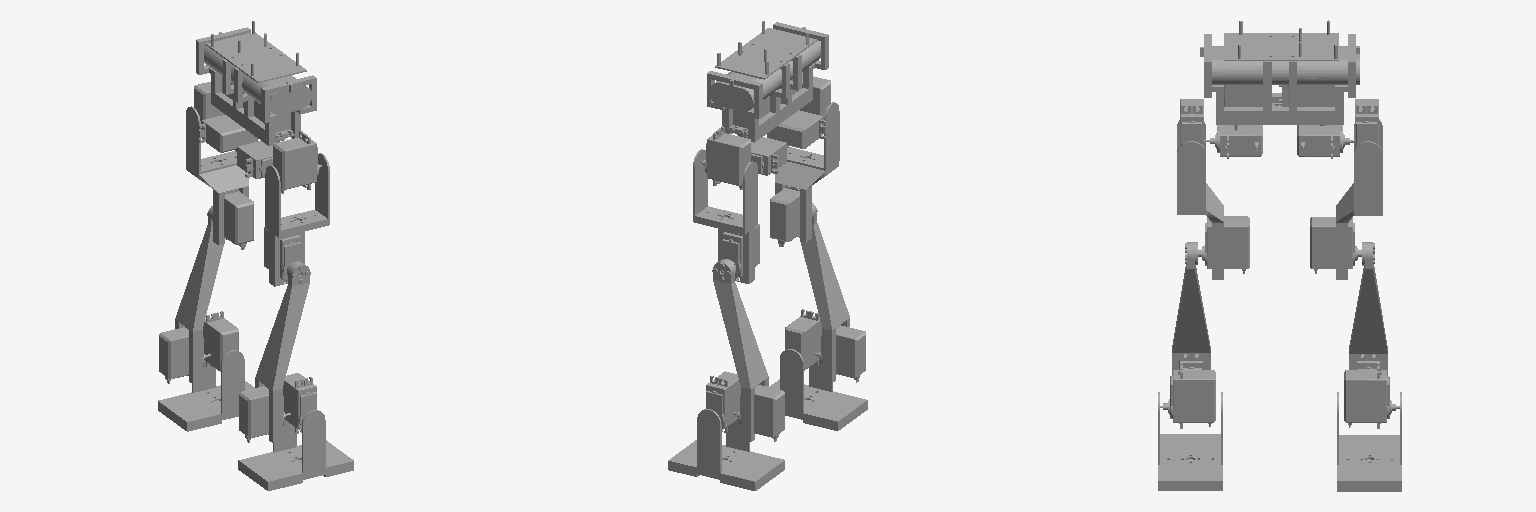
URDF robot description (URDF):
<?xml version="1.0" ?>
<!-- =================================================================================== -->
<!-- |    This document was autogenerated by xacro from urdf/URDF.xacro                | -->
<!-- |    EDITING THIS FILE BY HAND IS NOT RECOMMENDED                                 | -->
<!-- =================================================================================== -->
<robot xmlns:xacro="http://www.ros.org/wiki/xacro" name="URDF">
  <material name="silver">
    <color rgba="0.700 0.700 0.700 1.000"/>
  </material>
  <transmission name="Revolute 46_tran">
    <type>transmission_interface/SimpleTransmission</type>
    <joint name="Revolute 46">
      <hardwareInterface>hardware_interface/EffortJointInterface</hardwareInterface>
    </joint>
    <actuator name="Revolute 46_actr">
      <hardwareInterface>hardware_interface/EffortJointInterface</hardwareInterface>
      <mechanicalReduction>1</mechanicalReduction>
    </actuator>
  </transmission>
  <transmission name="Revolute 54_tran">
    <type>transmission_interface/SimpleTransmission</type>
    <joint name="Revolute 54">
      <hardwareInterface>hardware_interface/EffortJointInterface</hardwareInterface>
    </joint>
    <actuator name="Revolute 54_actr">
      <hardwareInterface>hardware_interface/EffortJointInterface</hardwareInterface>
      <mechanicalReduction>1</mechanicalReduction>
    </actuator>
  </transmission>
  <transmission name="Revolute 64_tran">
    <type>transmission_interface/SimpleTransmission</type>
    <joint name="Revolute 64">
      <hardwareInterface>hardware_interface/EffortJointInterface</hardwareInterface>
    </joint>
    <actuator name="Revolute 64_actr">
      <hardwareInterface>hardware_interface/EffortJointInterface</hardwareInterface>
      <mechanicalReduction>1</mechanicalReduction>
    </actuator>
  </transmission>
  <transmission name="Revolute 65_tran">
    <type>transmission_interface/SimpleTransmission</type>
    <joint name="Revolute 65">
      <hardwareInterface>hardware_interface/EffortJointInterface</hardwareInterface>
    </joint>
    <actuator name="Revolute 65_actr">
      <hardwareInterface>hardware_interface/EffortJointInterface</hardwareInterface>
      <mechanicalReduction>1</mechanicalReduction>
    </actuator>
  </transmission>
  <transmission name="Revolute 66_tran">
    <type>transmission_interface/SimpleTransmission</type>
    <joint name="Revolute 66">
      <hardwareInterface>hardware_interface/EffortJointInterface</hardwareInterface>
    </joint>
    <actuator name="Revolute 66_actr">
      <hardwareInterface>hardware_interface/EffortJointInterface</hardwareInterface>
      <mechanicalReduction>1</mechanicalReduction>
    </actuator>
  </transmission>
  <transmission name="Revolute 67_tran">
    <type>transmission_interface/SimpleTransmission</type>
    <joint name="Revolute 67">
      <hardwareInterface>hardware_interface/EffortJointInterface</hardwareInterface>
    </joint>
    <actuator name="Revolute 67_actr">
      <hardwareInterface>hardware_interface/EffortJointInterface</hardwareInterface>
      <mechanicalReduction>1</mechanicalReduction>
    </actuator>
  </transmission>
  <transmission name="Revolute 68_tran">
    <type>transmission_interface/SimpleTransmission</type>
    <joint name="Revolute 68">
      <hardwareInterface>hardware_interface/EffortJointInterface</hardwareInterface>
    </joint>
    <actuator name="Revolute 68_actr">
      <hardwareInterface>hardware_interface/EffortJointInterface</hardwareInterface>
      <mechanicalReduction>1</mechanicalReduction>
    </actuator>
  </transmission>
  <transmission name="Revolute 69_tran">
    <type>transmission_interface/SimpleTransmission</type>
    <joint name="Revolute 69">
      <hardwareInterface>hardware_interface/EffortJointInterface</hardwareInterface>
    </joint>
    <actuator name="Revolute 69_actr">
      <hardwareInterface>hardware_interface/EffortJointInterface</hardwareInterface>
      <mechanicalReduction>1</mechanicalReduction>
    </actuator>
  </transmission>
  <transmission name="Revolute 70_tran">
    <type>transmission_interface/SimpleTransmission</type>
    <joint name="Revolute 70">
      <hardwareInterface>hardware_interface/EffortJointInterface</hardwareInterface>
    </joint>
    <actuator name="Revolute 70_actr">
      <hardwareInterface>hardware_interface/EffortJointInterface</hardwareInterface>
      <mechanicalReduction>1</mechanicalReduction>
    </actuator>
  </transmission>
  <transmission name="Revolute 71_tran">
    <type>transmission_interface/SimpleTransmission</type>
    <joint name="Revolute 71">
      <hardwareInterface>hardware_interface/EffortJointInterface</hardwareInterface>
    </joint>
    <actuator name="Revolute 71_actr">
      <hardwareInterface>hardware_interface/EffortJointInterface</hardwareInterface>
      <mechanicalReduction>1</mechanicalReduction>
    </actuator>
  </transmission>
  <transmission name="Revolute 72_tran">
    <type>transmission_interface/SimpleTransmission</type>
    <joint name="Revolute 72">
      <hardwareInterface>hardware_interface/EffortJointInterface</hardwareInterface>
    </joint>
    <actuator name="Revolute 72_actr">
      <hardwareInterface>hardware_interface/EffortJointInterface</hardwareInterface>
      <mechanicalReduction>1</mechanicalReduction>
    </actuator>
  </transmission>
  <transmission name="Revolute 73_tran">
    <type>transmission_interface/SimpleTransmission</type>
    <joint name="Revolute 73">
      <hardwareInterface>hardware_interface/EffortJointInterface</hardwareInterface>
    </joint>
    <actuator name="Revolute 73_actr">
      <hardwareInterface>hardware_interface/EffortJointInterface</hardwareInterface>
      <mechanicalReduction>1</mechanicalReduction>
    </actuator>
  </transmission>
  <gazebo>
    <plugin name="control" filename="libgazebo_ros_control.so"/>
  </gazebo>
  <gazebo reference="base_link">
    <material>Gazebo/Silver</material>
    <mu1>0.2</mu1>
    <mu2>0.2</mu2>
    <selfCollide>true</selfCollide>
    <gravity>true</gravity>
  </gazebo>
  <gazebo reference="Component70_1_1">
    <material>Gazebo/Silver</material>
    <mu1>0.2</mu1>
    <mu2>0.2</mu2>
    <selfCollide>true</selfCollide>
  </gazebo>
  <gazebo reference="Component68_1_1">
    <material>Gazebo/Silver</material>
    <mu1>0.2</mu1>
    <mu2>0.2</mu2>
    <selfCollide>true</selfCollide>
  </gazebo>
  <gazebo reference="Component69_1_1">
    <material>Gazebo/Silver</material>
    <mu1>0.2</mu1>
    <mu2>0.2</mu2>
    <selfCollide>true</selfCollide>
  </gazebo>
  <gazebo reference="Component60_1_1">
    <material>Gazebo/Silver</material>
    <mu1>0.2</mu1>
    <mu2>0.2</mu2>
    <selfCollide>true</selfCollide>
  </gazebo>
  <gazebo reference="Component65_1_1">
    <material>Gazebo/Silver</material>
    <mu1>0.2</mu1>
    <mu2>0.2</mu2>
    <selfCollide>true</selfCollide>
  </gazebo>
  <gazebo reference="Component64_1_1">
    <material>Gazebo/Silver</material>
    <mu1>0.2</mu1>
    <mu2>0.2</mu2>
    <selfCollide>true</selfCollide>
  </gazebo>
  <gazebo reference="Component67_1_1">
    <material>Gazebo/Silver</material>
    <mu1>0.2</mu1>
    <mu2>0.2</mu2>
    <selfCollide>true</selfCollide>
  </gazebo>
  <gazebo reference="Component66_1_1">
    <material>Gazebo/Silver</material>
    <mu1>0.2</mu1>
    <mu2>0.2</mu2>
    <selfCollide>true</selfCollide>
  </gazebo>
  <gazebo reference="Component62_1_1">
    <material>Gazebo/Silver</material>
    <mu1>0.2</mu1>
    <mu2>0.2</mu2>
    <selfCollide>true</selfCollide>
  </gazebo>
  <gazebo reference="Component61_1_1">
    <material>Gazebo/Silver</material>
    <mu1>0.2</mu1>
    <mu2>0.2</mu2>
    <selfCollide>true</selfCollide>
  </gazebo>
  <gazebo reference="Component59_1_1">
    <material>Gazebo/Silver</material>
    <mu1>0.2</mu1>
    <mu2>0.2</mu2>
    <selfCollide>true</selfCollide>
  </gazebo>
  <gazebo reference="Component63_1_1">
    <material>Gazebo/Silver</material>
    <mu1>0.2</mu1>
    <mu2>0.2</mu2>
    <selfCollide>true</selfCollide>
  </gazebo>
  <link name="base_link">
    <inertial>
      <origin xyz="-0.011703422674285093 0.009197298171878695 0.36011121929901063" rpy="0 0 0"/>
      <mass value="2.0120152876623387"/>
      <inertia ixx="0.003383" iyy="0.001012" izz="0.002987" ixy="-2e-06" iyz="-2.2e-05" ixz="1e-06"/>
    </inertial>
    <visual>
      <origin xyz="0 0 0" rpy="0 0 0"/>
      <geometry>
        <mesh filename="package://URDF_description/meshes/base_link.stl" scale="0.001 0.001 0.001"/>
      </geometry>
      <material name="silver"/>
    </visual>
    <collision>
      <origin xyz="0 0 0" rpy="0 0 0"/>
      <geometry>
        <mesh filename="package://URDF_description/meshes/base_link.stl" scale="0.001 0.001 0.001"/>
      </geometry>
    </collision>
  </link>
  <link name="Component70_1_1">
    <inertial>
      <origin xyz="-0.0010554319034461381 -0.010177955025814527 0.009960515307133766" rpy="0 0 0"/>
      <mass value="0.2605710862815951"/>
      <inertia ixx="4.6e-05" iyy="7.1e-05" izz="4.2e-05" ixy="0.0" iyz="-0.0" ixz="1e-06"/>
    </inertial>
    <visual>
      <origin xyz="0.01125 0.056859 -0.300745" rpy="0 0 0"/>
      <geometry>
        <mesh filename="package://URDF_description/meshes/Component70_1_1.stl" scale="0.001 0.001 0.001"/>
      </geometry>
      <material name="silver"/>
    </visual>
    <collision>
      <origin xyz="0.01125 0.056859 -0.300745" rpy="0 0 0"/>
      <geometry>
        <mesh filename="package://URDF_description/meshes/Component70_1_1.stl" scale="0.001 0.001 0.001"/>
      </geometry>
    </collision>
  </link>
  <link name="Component68_1_1">
    <inertial>
      <origin xyz="-0.0013721079730014234 0.01018325708274051 0.009960041415219889" rpy="0 0 0"/>
      <mass value="0.26058347817133687"/>
      <inertia ixx="4.6e-05" iyy="7.1e-05" izz="4.2e-05" ixy="-0.0" iyz="0.0" ixz="1e-06"/>
    </inertial>
    <visual>
      <origin xyz="0.010932 -0.07264 -0.300745" rpy="0 0 0"/>
      <geometry>
        <mesh filename="package://URDF_description/meshes/Component68_1_1.stl" scale="0.001 0.001 0.001"/>
      </geometry>
      <material name="silver"/>
    </visual>
    <collision>
      <origin xyz="0.010932 -0.07264 -0.300745" rpy="0 0 0"/>
      <geometry>
        <mesh filename="package://URDF_description/meshes/Component68_1_1.stl" scale="0.001 0.001 0.001"/>
      </geometry>
    </collision>
  </link>
  <link name="Component69_1_1">
    <inertial>
      <origin xyz="-0.009584482225167869 0.0028920113574121657 -0.010242130854528242" rpy="0 0 0"/>
      <mass value="0.2606766909017712"/>
      <inertia ixx="4.2e-05" iyy="4.6e-05" izz="7.1e-05" ixy="1e-06" iyz="-0.0" ixz="0.0"/>
    </inertial>
    <visual>
      <origin xyz="0.011622 0.028932 -0.310987" rpy="0 0 0"/>
      <geometry>
        <mesh filename="package://URDF_description/meshes/Component69_1_1.stl" scale="0.001 0.001 0.001"/>
      </geometry>
      <material name="silver"/>
    </visual>
    <collision>
      <origin xyz="0.011622 0.028932 -0.310987" rpy="0 0 0"/>
      <geometry>
        <mesh filename="package://URDF_description/meshes/Component69_1_1.stl" scale="0.001 0.001 0.001"/>
      </geometry>
    </collision>
  </link>
  <link name="Component60_1_1">
    <inertial>
      <origin xyz="-0.009585821140849727 -0.0028961550072042694 -0.010249054751742925" rpy="0 0 0"/>
      <mass value="0.2606418768017664"/>
      <inertia ixx="4.2e-05" iyy="4.6e-05" izz="7.1e-05" ixy="-1e-06" iyz="0.0" ixz="0.0"/>
    </inertial>
    <visual>
      <origin xyz="0.011304 -0.045668 -0.310994" rpy="0 0 0"/>
      <geometry>
        <mesh filename="package://URDF_description/meshes/Component60_1_1.stl" scale="0.001 0.001 0.001"/>
      </geometry>
      <material name="silver"/>
    </visual>
    <collision>
      <origin xyz="0.011304 -0.045668 -0.310994" rpy="0 0 0"/>
      <geometry>
        <mesh filename="package://URDF_description/meshes/Component60_1_1.stl" scale="0.001 0.001 0.001"/>
      </geometry>
    </collision>
  </link>
  <link name="Component65_1_1">
    <inertial>
      <origin xyz="-0.0251080104655807 0.02053448234340218 -0.07938553469074408" rpy="0 0 0"/>
      <mass value="0.4795683297989441"/>
      <inertia ixx="0.0005" iyy="0.000461" izz="0.000198" ixy="-3e-06" iyz="0.000142" ixz="6e-06"/>
    </inertial>
    <visual>
      <origin xyz="-0.015754 0.067037 -0.300745" rpy="0 0 0"/>
      <geometry>
        <mesh filename="package://URDF_description/meshes/Component65_1_1.stl" scale="0.001 0.001 0.001"/>
      </geometry>
      <material name="silver"/>
    </visual>
    <collision>
      <origin xyz="-0.015754 0.067037 -0.300745" rpy="0 0 0"/>
      <geometry>
        <mesh filename="package://URDF_description/meshes/Component65_1_1.stl" scale="0.001 0.001 0.001"/>
      </geometry>
    </collision>
  </link>
  <link name="Component64_1_1">
    <inertial>
      <origin xyz="-0.029491082579910514 0.003956754157745004 -0.1016008471361318" rpy="0 0 0"/>
      <mass value="0.5723786894338777"/>
      <inertia ixx="0.001158" iyy="0.001268" izz="0.00017" ixy="1e-06" iyz="2e-06" ixz="-0.000323"/>
    </inertial>
    <visual>
      <origin xyz="0.009024 0.071577 -0.195151" rpy="0 0 0"/>
      <geometry>
        <mesh filename="package://URDF_description/meshes/Component64_1_1.stl" scale="0.001 0.001 0.001"/>
      </geometry>
      <material name="silver"/>
    </visual>
    <collision>
      <origin xyz="0.009024 0.071577 -0.195151" rpy="0 0 0"/>
      <geometry>
        <mesh filename="package://URDF_description/meshes/Component64_1_1.stl" scale="0.001 0.001 0.001"/>
      </geometry>
    </collision>
  </link>
  <link name="Component67_1_1">
    <inertial>
      <origin xyz="0.010148909868080274 0.0014454123231719407 0.009960061611518065" rpy="0 0 0"/>
      <mass value="0.260583085238151"/>
      <inertia ixx="7.1e-05" iyy="4.6e-05" izz="4.2e-05" ixy="0.0" iyz="-1e-06" ixz="0.0"/>
    </inertial>
    <visual>
      <origin xyz="0.018503 0.067568 -0.050446" rpy="0 0 0"/>
      <geometry>
        <mesh filename="package://URDF_description/meshes/Component67_1_1.stl" scale="0.001 0.001 0.001"/>
      </geometry>
      <material name="silver"/>
    </visual>
    <collision>
      <origin xyz="0.018503 0.067568 -0.050446" rpy="0 0 0"/>
      <geometry>
        <mesh filename="package://URDF_description/meshes/Component67_1_1.stl" scale="0.001 0.001 0.001"/>
      </geometry>
    </collision>
  </link>
  <link name="Component66_1_1">
    <inertial>
      <origin xyz="-0.003836025037033855 0.026087863208817785 -0.05053384808645057" rpy="0 0 0"/>
      <mass value="0.42535185084301863"/>
      <inertia ixx="0.000201" iyy="0.000374" izz="0.000441" ixy="-0.0" iyz="-0.0" ixz="-5e-06"/>
    </inertial>
    <visual>
      <origin xyz="0.008354 0.094498 -0.050446" rpy="0 0 0"/>
      <geometry>
        <mesh filename="package://URDF_description/meshes/Component66_1_1.stl" scale="0.001 0.001 0.001"/>
      </geometry>
      <material name="silver"/>
    </visual>
    <collision>
      <origin xyz="0.008354 0.094498 -0.050446" rpy="0 0 0"/>
      <geometry>
        <mesh filename="package://URDF_description/meshes/Component66_1_1.stl" scale="0.001 0.001 0.001"/>
      </geometry>
    </collision>
  </link>
  <link name="Component62_1_1">
    <inertial>
      <origin xyz="-0.025086134509348712 -0.019584458432280197 -0.07938591030825198" rpy="0 0 0"/>
      <mass value="0.4795660415586759"/>
      <inertia ixx="0.0005" iyy="0.000461" izz="0.000198" ixy="3e-06" iyz="-0.000142" ixz="6e-06"/>
    </inertial>
    <visual>
      <origin xyz="-0.016072 -0.082823 -0.300745" rpy="0 0 0"/>
      <geometry>
        <mesh filename="package://URDF_description/meshes/Component62_1_1.stl" scale="0.001 0.001 0.001"/>
      </geometry>
      <material name="silver"/>
    </visual>
    <collision>
      <origin xyz="-0.016072 -0.082823 -0.300745" rpy="0 0 0"/>
      <geometry>
        <mesh filename="package://URDF_description/meshes/Component62_1_1.stl" scale="0.001 0.001 0.001"/>
      </geometry>
    </collision>
  </link>
  <link name="Component61_1_1">
    <inertial>
      <origin xyz="-0.02949107683821049 -0.003956632577476138 -0.10160079326267805" rpy="0 0 0"/>
      <mass value="0.5723780660401575"/>
      <inertia ixx="0.001158" iyy="0.001268" izz="0.00017" ixy="-1e-06" iyz="-2e-06" ixz="-0.000323"/>
    </inertial>
    <visual>
      <origin xyz="0.008684 -0.088313 -0.195151" rpy="0 0 0"/>
      <geometry>
        <mesh filename="package://URDF_description/meshes/Component61_1_1.stl" scale="0.001 0.001 0.001"/>
      </geometry>
      <material name="silver"/>
    </visual>
    <collision>
      <origin xyz="0.008684 -0.088313 -0.195151" rpy="0 0 0"/>
      <geometry>
        <mesh filename="package://URDF_description/meshes/Component61_1_1.stl" scale="0.001 0.001 0.001"/>
      </geometry>
    </collision>
  </link>
  <link name="Component59_1_1">
    <inertial>
      <origin xyz="0.010216801636091533 -0.0014452836669632402 0.009959962708194825" rpy="0 0 0"/>
      <mass value="0.26058568857338693"/>
      <inertia ixx="7.1e-05" iyy="4.6e-05" izz="4.2e-05" ixy="-0.0" iyz="1e-06" ixz="0.0"/>
    </inertial>
    <visual>
      <origin xyz="0.018163 -0.084304 -0.050446" rpy="0 0 0"/>
      <geometry>
        <mesh filename="package://URDF_description/meshes/Component59_1_1.stl" scale="0.001 0.001 0.001"/>
      </geometry>
      <material name="silver"/>
    </visual>
    <collision>
      <origin xyz="0.018163 -0.084304 -0.050446" rpy="0 0 0"/>
      <geometry>
        <mesh filename="package://URDF_description/meshes/Component59_1_1.stl" scale="0.001 0.001 0.001"/>
      </geometry>
    </collision>
  </link>
  <link name="Component63_1_1">
    <inertial>
      <origin xyz="-0.003836011886670109 -0.025999620351600236 -0.050533600876660444" rpy="0 0 0"/>
      <mass value="0.42535393165731183"/>
      <inertia ixx="0.000201" iyy="0.000374" izz="0.000441" ixy="0.0" iyz="0.0" ixz="-5e-06"/>
    </inertial>
    <visual>
      <origin xyz="0.007946 -0.111234 -0.050446" rpy="0 0 0"/>
      <geometry>
        <mesh filename="package://URDF_description/meshes/Component63_1_1.stl" scale="0.001 0.001 0.001"/>
      </geometry>
      <material name="silver"/>
    </visual>
    <collision>
      <origin xyz="0.007946 -0.111234 -0.050446" rpy="0 0 0"/>
      <geometry>
        <mesh filename="package://URDF_description/meshes/Component63_1_1.stl" scale="0.001 0.001 0.001"/>
      </geometry>
    </collision>
  </link>
  <joint name="Revolute 46" type="continuous">
    <origin xyz="0.000372 -0.027927 -0.010242" rpy="0 0 0"/>
    <parent link="Component69_1_1"/>
    <child link="Component70_1_1"/>
    <axis xyz="-0.0 -1.0 -0.0"/>
  </joint>
  <joint name="Revolute 54" type="continuous">
    <origin xyz="0.000372 0.026972 -0.010249" rpy="0 0 0"/>
    <parent link="Component60_1_1"/>
    <child link="Component68_1_1"/>
    <axis xyz="0.0 1.0 0.0"/>
  </joint>
  <joint name="Revolute 64" type="continuous">
    <origin xyz="-0.011622 -0.028932 0.310987" rpy="0 0 0"/>
    <parent link="base_link"/>
    <child link="Component69_1_1"/>
    <axis xyz="-0.0 0.0 -1.0"/>
  </joint>
  <joint name="Revolute 65" type="continuous">
    <origin xyz="-0.011304 0.045668 0.310994" rpy="0 0 0"/>
    <parent link="base_link"/>
    <child link="Component60_1_1"/>
    <axis xyz="-0.0 0.0 -1.0"/>
  </joint>
  <joint name="Revolute 66" type="continuous">
    <origin xyz="0.027004 -0.010178 0.0" rpy="0 0 0"/>
    <parent link="Component70_1_1"/>
    <child link="Component65_1_1"/>
    <axis xyz="1.0 0.0 -0.0"/>
  </joint>
  <joint name="Revolute 67" type="continuous">
    <origin xyz="-0.024778 -0.00454 -0.105594" rpy="0 0 0"/>
    <parent link="Component65_1_1"/>
    <child link="Component64_1_1"/>
    <axis xyz="-0.0 -1.0 -0.0"/>
  </joint>
  <joint name="Revolute 68" type="continuous">
    <origin xyz="-0.009479 0.004009 -0.144705" rpy="0 0 0"/>
    <parent link="Component64_1_1"/>
    <child link="Component67_1_1"/>
    <axis xyz="1.0 0.0 0.0"/>
  </joint>
  <joint name="Revolute 69" type="continuous">
    <origin xyz="0.010149 -0.02693 0.0" rpy="0 0 0"/>
    <parent link="Component67_1_1"/>
    <child link="Component66_1_1"/>
    <axis xyz="0.0 -1.0 -0.0"/>
  </joint>
  <joint name="Revolute 70" type="continuous">
    <origin xyz="0.027004 0.010183 0.0" rpy="0 0 0"/>
    <parent link="Component68_1_1"/>
    <child link="Component62_1_1"/>
    <axis xyz="1.0 -0.0 -0.0"/>
  </joint>
  <joint name="Revolute 71" type="continuous">
    <origin xyz="-0.024756 0.00549 -0.105594" rpy="0 0 0"/>
    <parent link="Component62_1_1"/>
    <child link="Component61_1_1"/>
    <axis xyz="0.0 1.0 0.0"/>
  </joint>
  <joint name="Revolute 72" type="continuous">
    <origin xyz="-0.009479 -0.004009 -0.144705" rpy="0 0 0"/>
    <parent link="Component61_1_1"/>
    <child link="Component59_1_1"/>
    <axis xyz="1.0 -0.0 -0.0"/>
  </joint>
  <joint name="Revolute 73" type="continuous">
    <origin xyz="0.010217 0.02693 0.0" rpy="0 0 0"/>
    <parent link="Component59_1_1"/>
    <child link="Component63_1_1"/>
    <axis xyz="0.0 1.0 0.0"/>
  </joint>
</robot>

--- What the picture shows (computed from the rendered views, not written in the file) ---
The picture shows the robot from 3 angles, left to right: view 1: azimuth 30°, elevation 25°; view 2: azimuth 150°, elevation 25°; view 3: azimuth 270°, elevation 25°; orthographic projection.
Model URDF with 13 links and 12 joints (12 continuous), rooted at base_link, posed all joints at 0.
Visible links, largest first — view 1: base_link, Component64_1_1, Component61_1_1, Component66_1_1, Component62_1_1, Component65_1_1, Component63_1_1, Component70_1_1, Component59_1_1, Component60_1_1, Component67_1_1, Component69_1_1 (+1 smaller); view 2: base_link, Component61_1_1, Component64_1_1, Component63_1_1, Component65_1_1, Component62_1_1, Component66_1_1, Component68_1_1, Component67_1_1, Component69_1_1, Component59_1_1, Component60_1_1 (+1 smaller); view 3: base_link, Component65_1_1, Component62_1_1, Component63_1_1, Component66_1_1, Component61_1_1, Component64_1_1, Component67_1_1, Component59_1_1, Component60_1_1, Component69_1_1, Component68_1_1 (+1 smaller).
Link boxes in pixels (x1,y1,x2,y2): base_link: (196, 21, 316, 145); Component64_1_1: (239, 261, 310, 442); Component61_1_1: (159, 206, 223, 383); Component66_1_1: (238, 410, 353, 490); Component62_1_1: (186, 106, 253, 249); Component65_1_1: (264, 153, 329, 286); Component63_1_1: (158, 350, 254, 431); Component70_1_1: (273, 131, 321, 193); Component59_1_1: (203, 311, 238, 371); Component60_1_1: (198, 115, 257, 152); Component67_1_1: (283, 373, 316, 433); Component69_1_1: (237, 141, 272, 178); base_link: (707, 21, 828, 142); Component61_1_1: (712, 259, 784, 441); Component64_1_1: (799, 203, 865, 382); Component63_1_1: (668, 409, 784, 490); Component65_1_1: (770, 102, 839, 246); Component62_1_1: (693, 149, 759, 283); Component66_1_1: (770, 349, 867, 430); Component68_1_1: (701, 126, 750, 189); Component67_1_1: (785, 309, 821, 370); Component69_1_1: (767, 110, 826, 148); Component59_1_1: (706, 371, 740, 432); Component60_1_1: (751, 137, 786, 175); base_link: (1200, 20, 1359, 130); Component65_1_1: (1177, 120, 1249, 279); Component62_1_1: (1310, 119, 1382, 279); Component63_1_1: (1337, 392, 1401, 491); Component66_1_1: (1158, 392, 1222, 490); Component61_1_1: (1349, 242, 1387, 375); Component64_1_1: (1172, 242, 1210, 375); Component67_1_1: (1160, 363, 1215, 428); Component59_1_1: (1344, 363, 1399, 428); Component60_1_1: (1297, 125, 1354, 158); Component69_1_1: (1204, 125, 1262, 158); Component68_1_1: (1355, 99, 1378, 147).
Size in the robot's own frame: 0.105 by 0.2096 by 0.4122 metres.
13 mesh visuals loaded from 13 distinct referenced files (13 binary STL).